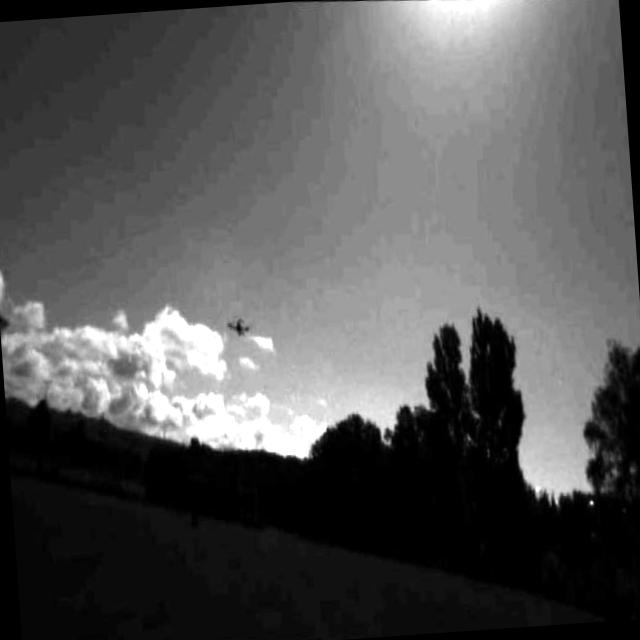drone: (224, 312, 255, 342)
